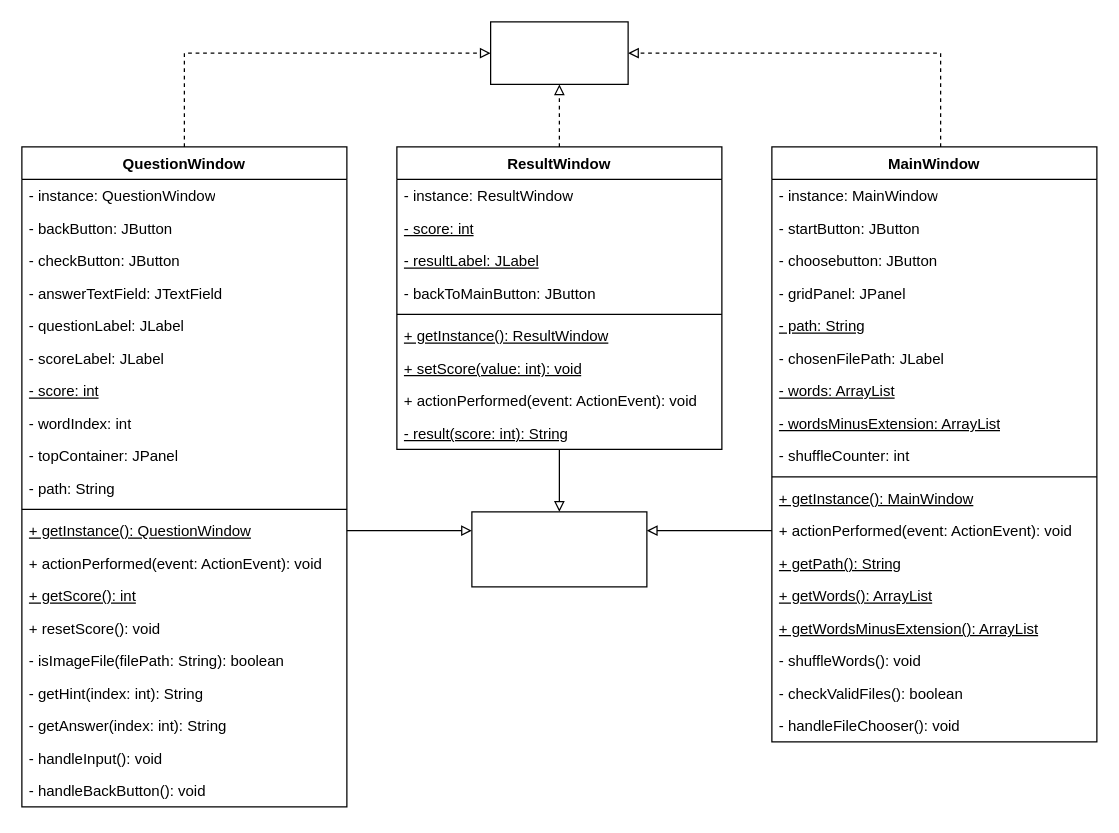
Some shapes in this 1119 by 833 pixel diagram are drawn without their labels. Here are the shapes that lost their labels. From the top down, the centre of each, then its label:
pixel 558 52: «interface» ActionListener
pixel 559 549: JFrame
